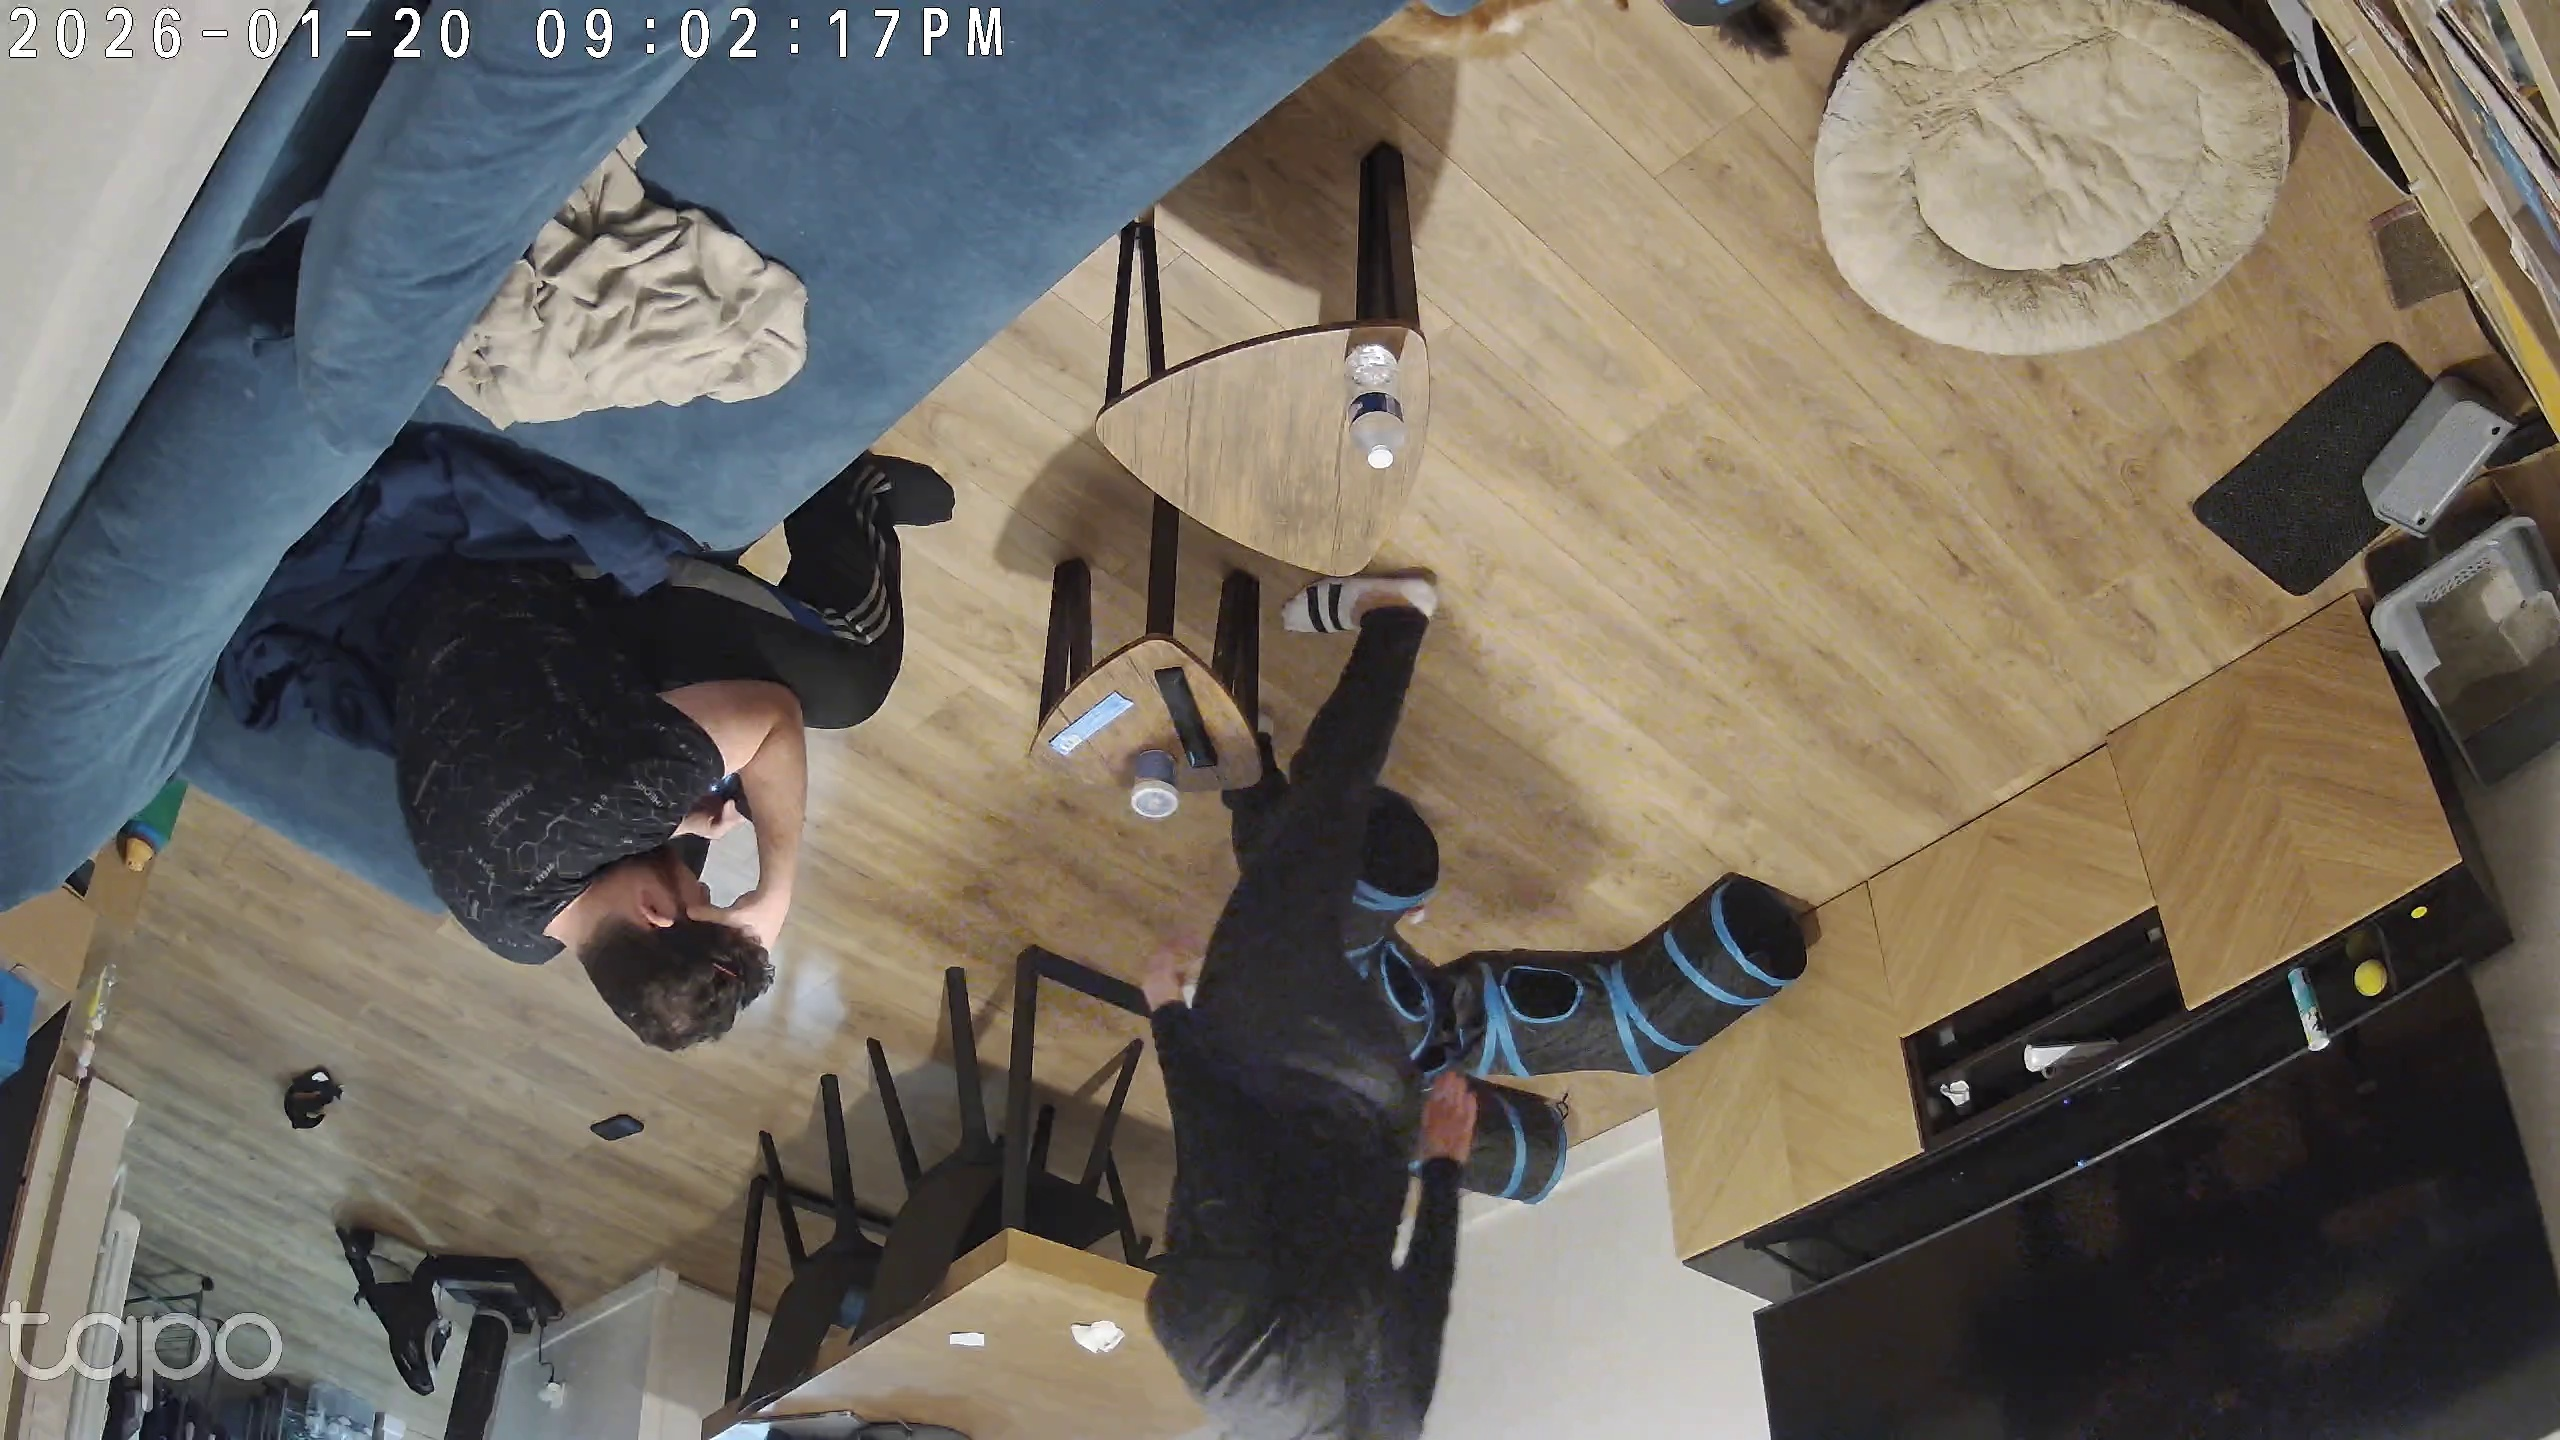Nala: (1711, 0, 1918, 81)
Simba: (1354, 0, 1653, 88)
